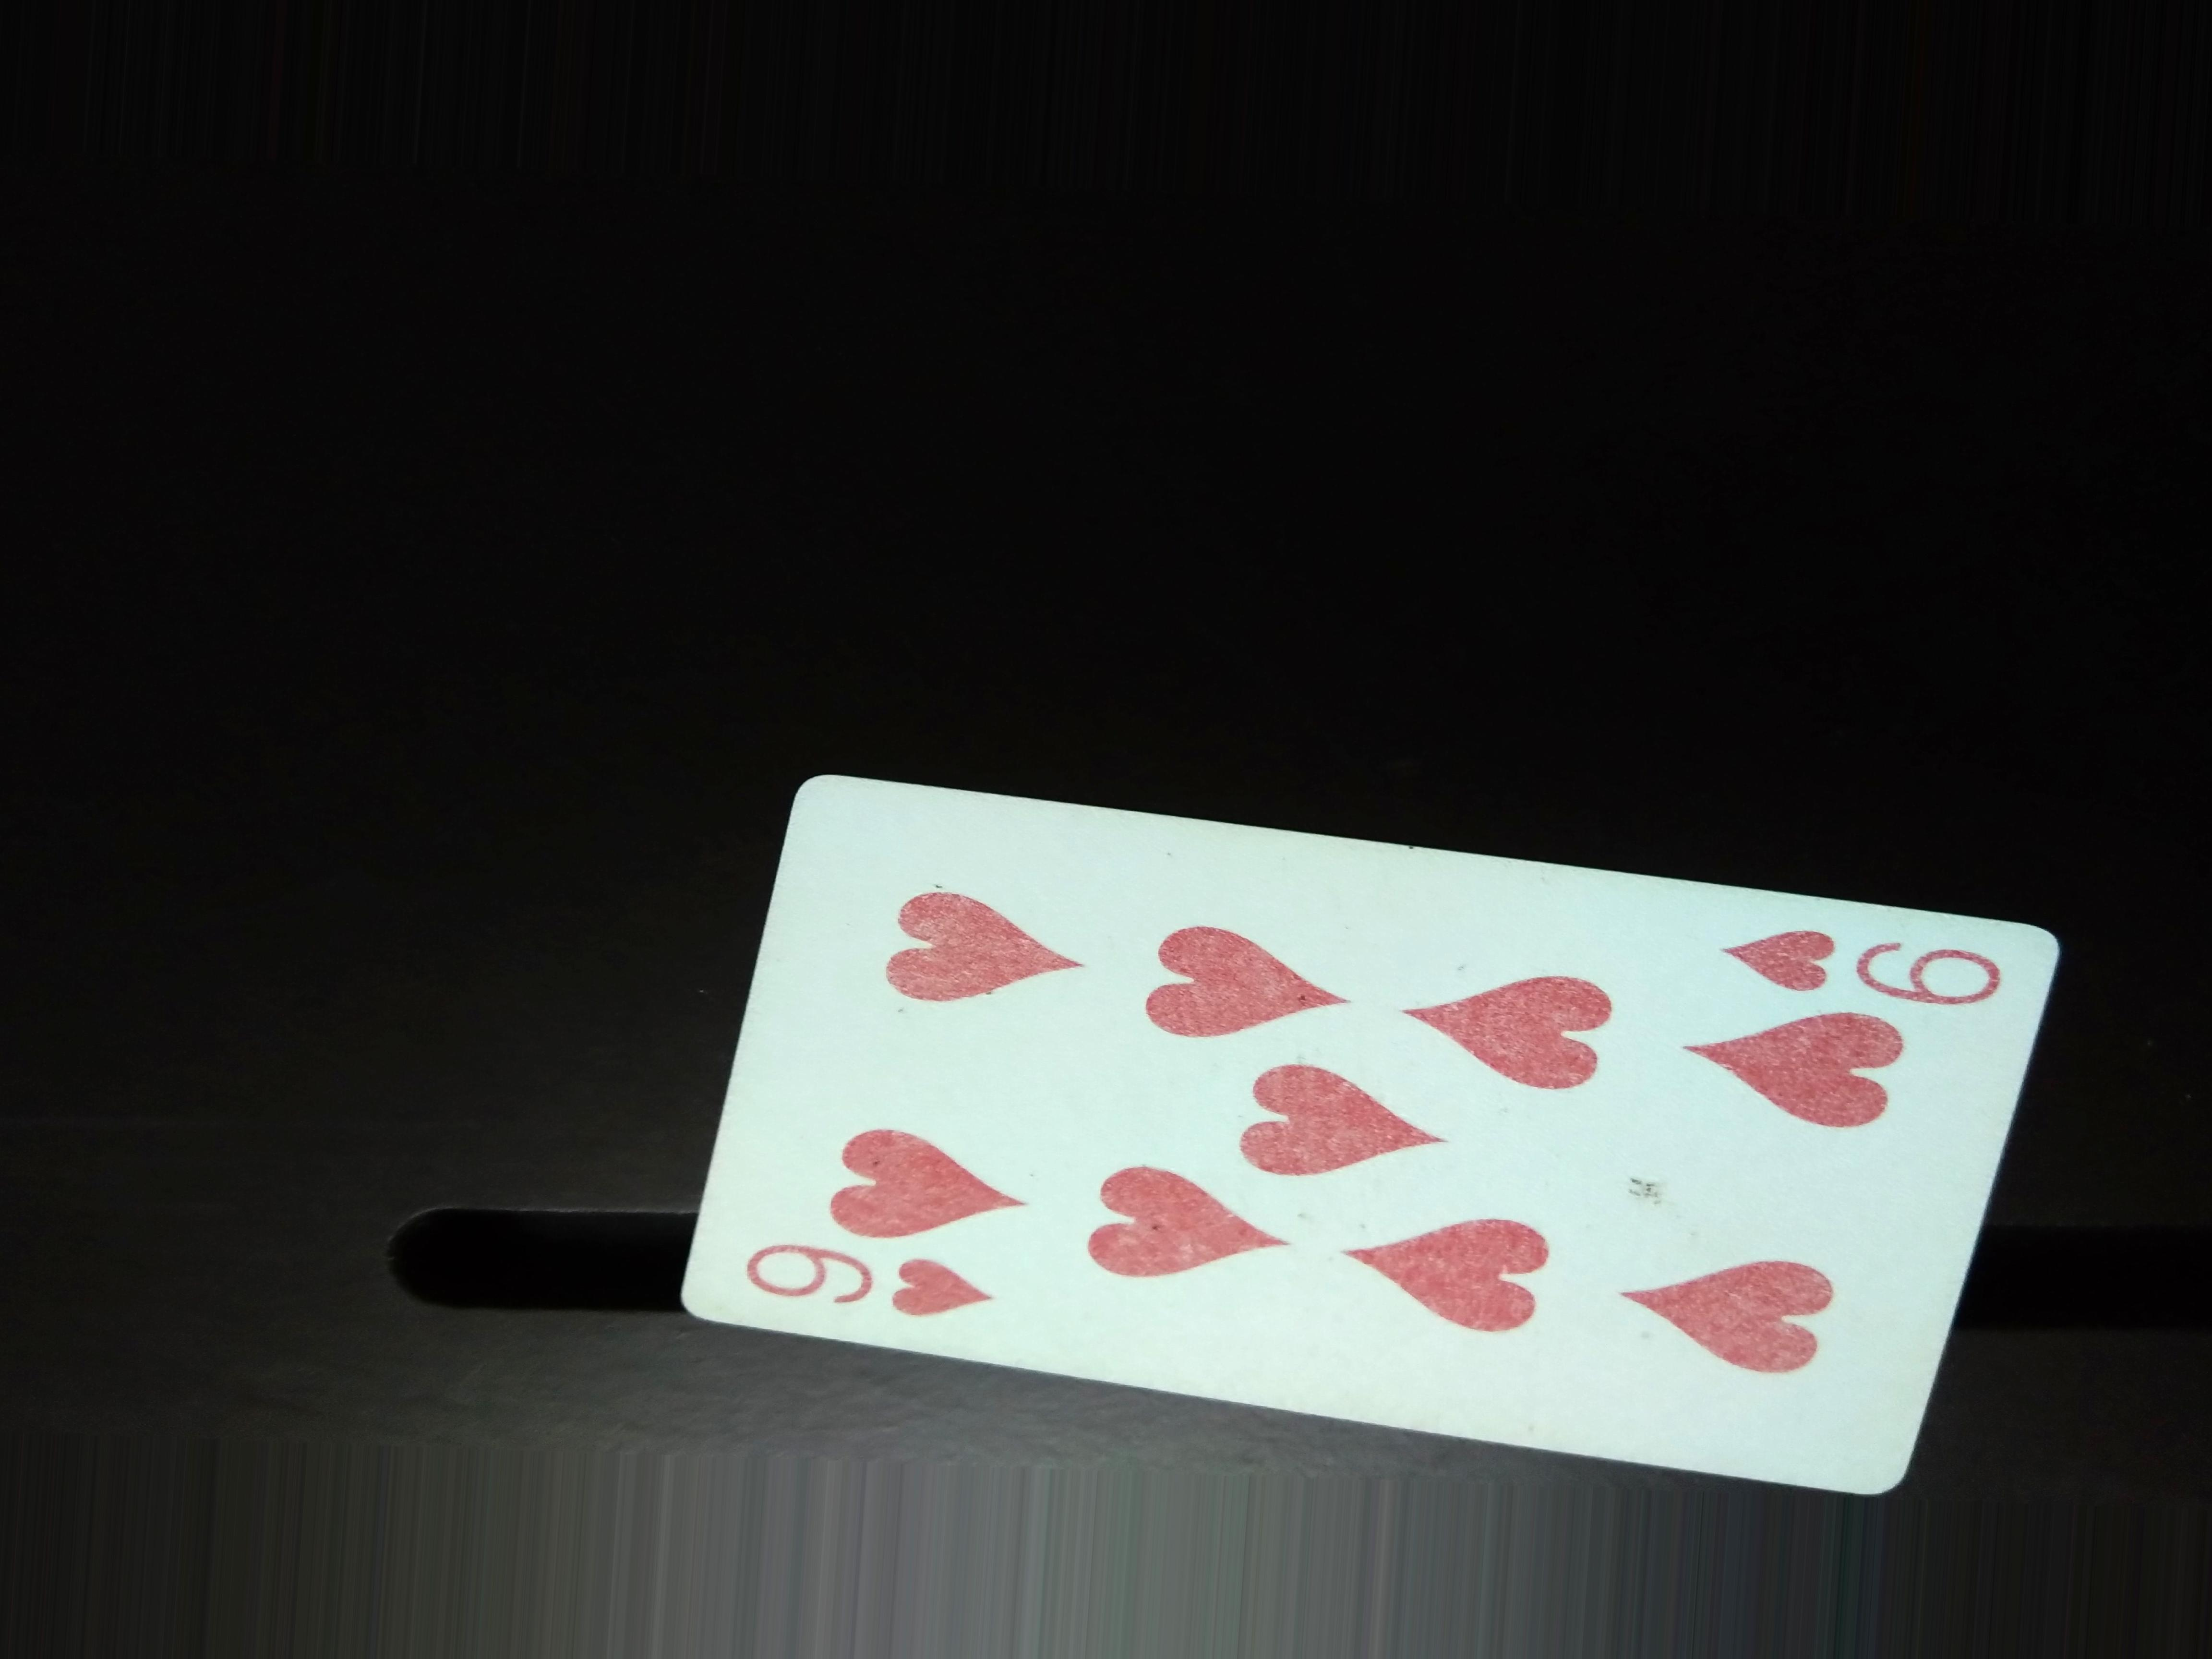9H: (737, 1237, 1021, 1347)
